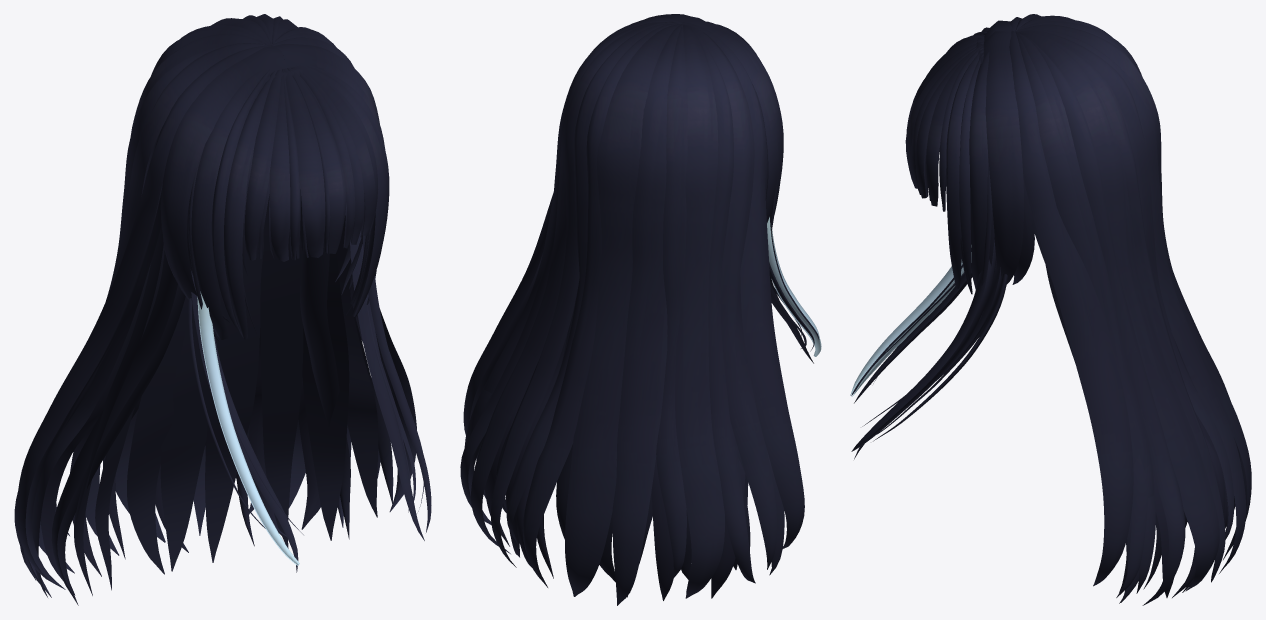
File: vroid_hair_c17v3.glb
3 renders of one model, left to right at view 1: azimuth 30°, elevation 25°; view 2: azimuth 150°, elevation 25°; view 3: azimuth 270°, elevation 25°, orthographic. The views are drawn at different scales.
Parts seen in each view (by area): view 1: hair; view 2: hair; view 3: hair.
Boxes of the visible parts, x1,y1,x2,y2 form: hair: [14, 14, 431, 605]; hair: [460, 14, 821, 605]; hair: [850, 14, 1251, 605].
Bounding box in the file's own units: 0.385 × 0.5605 × 0.3816.
2 materials, 2 textured.
